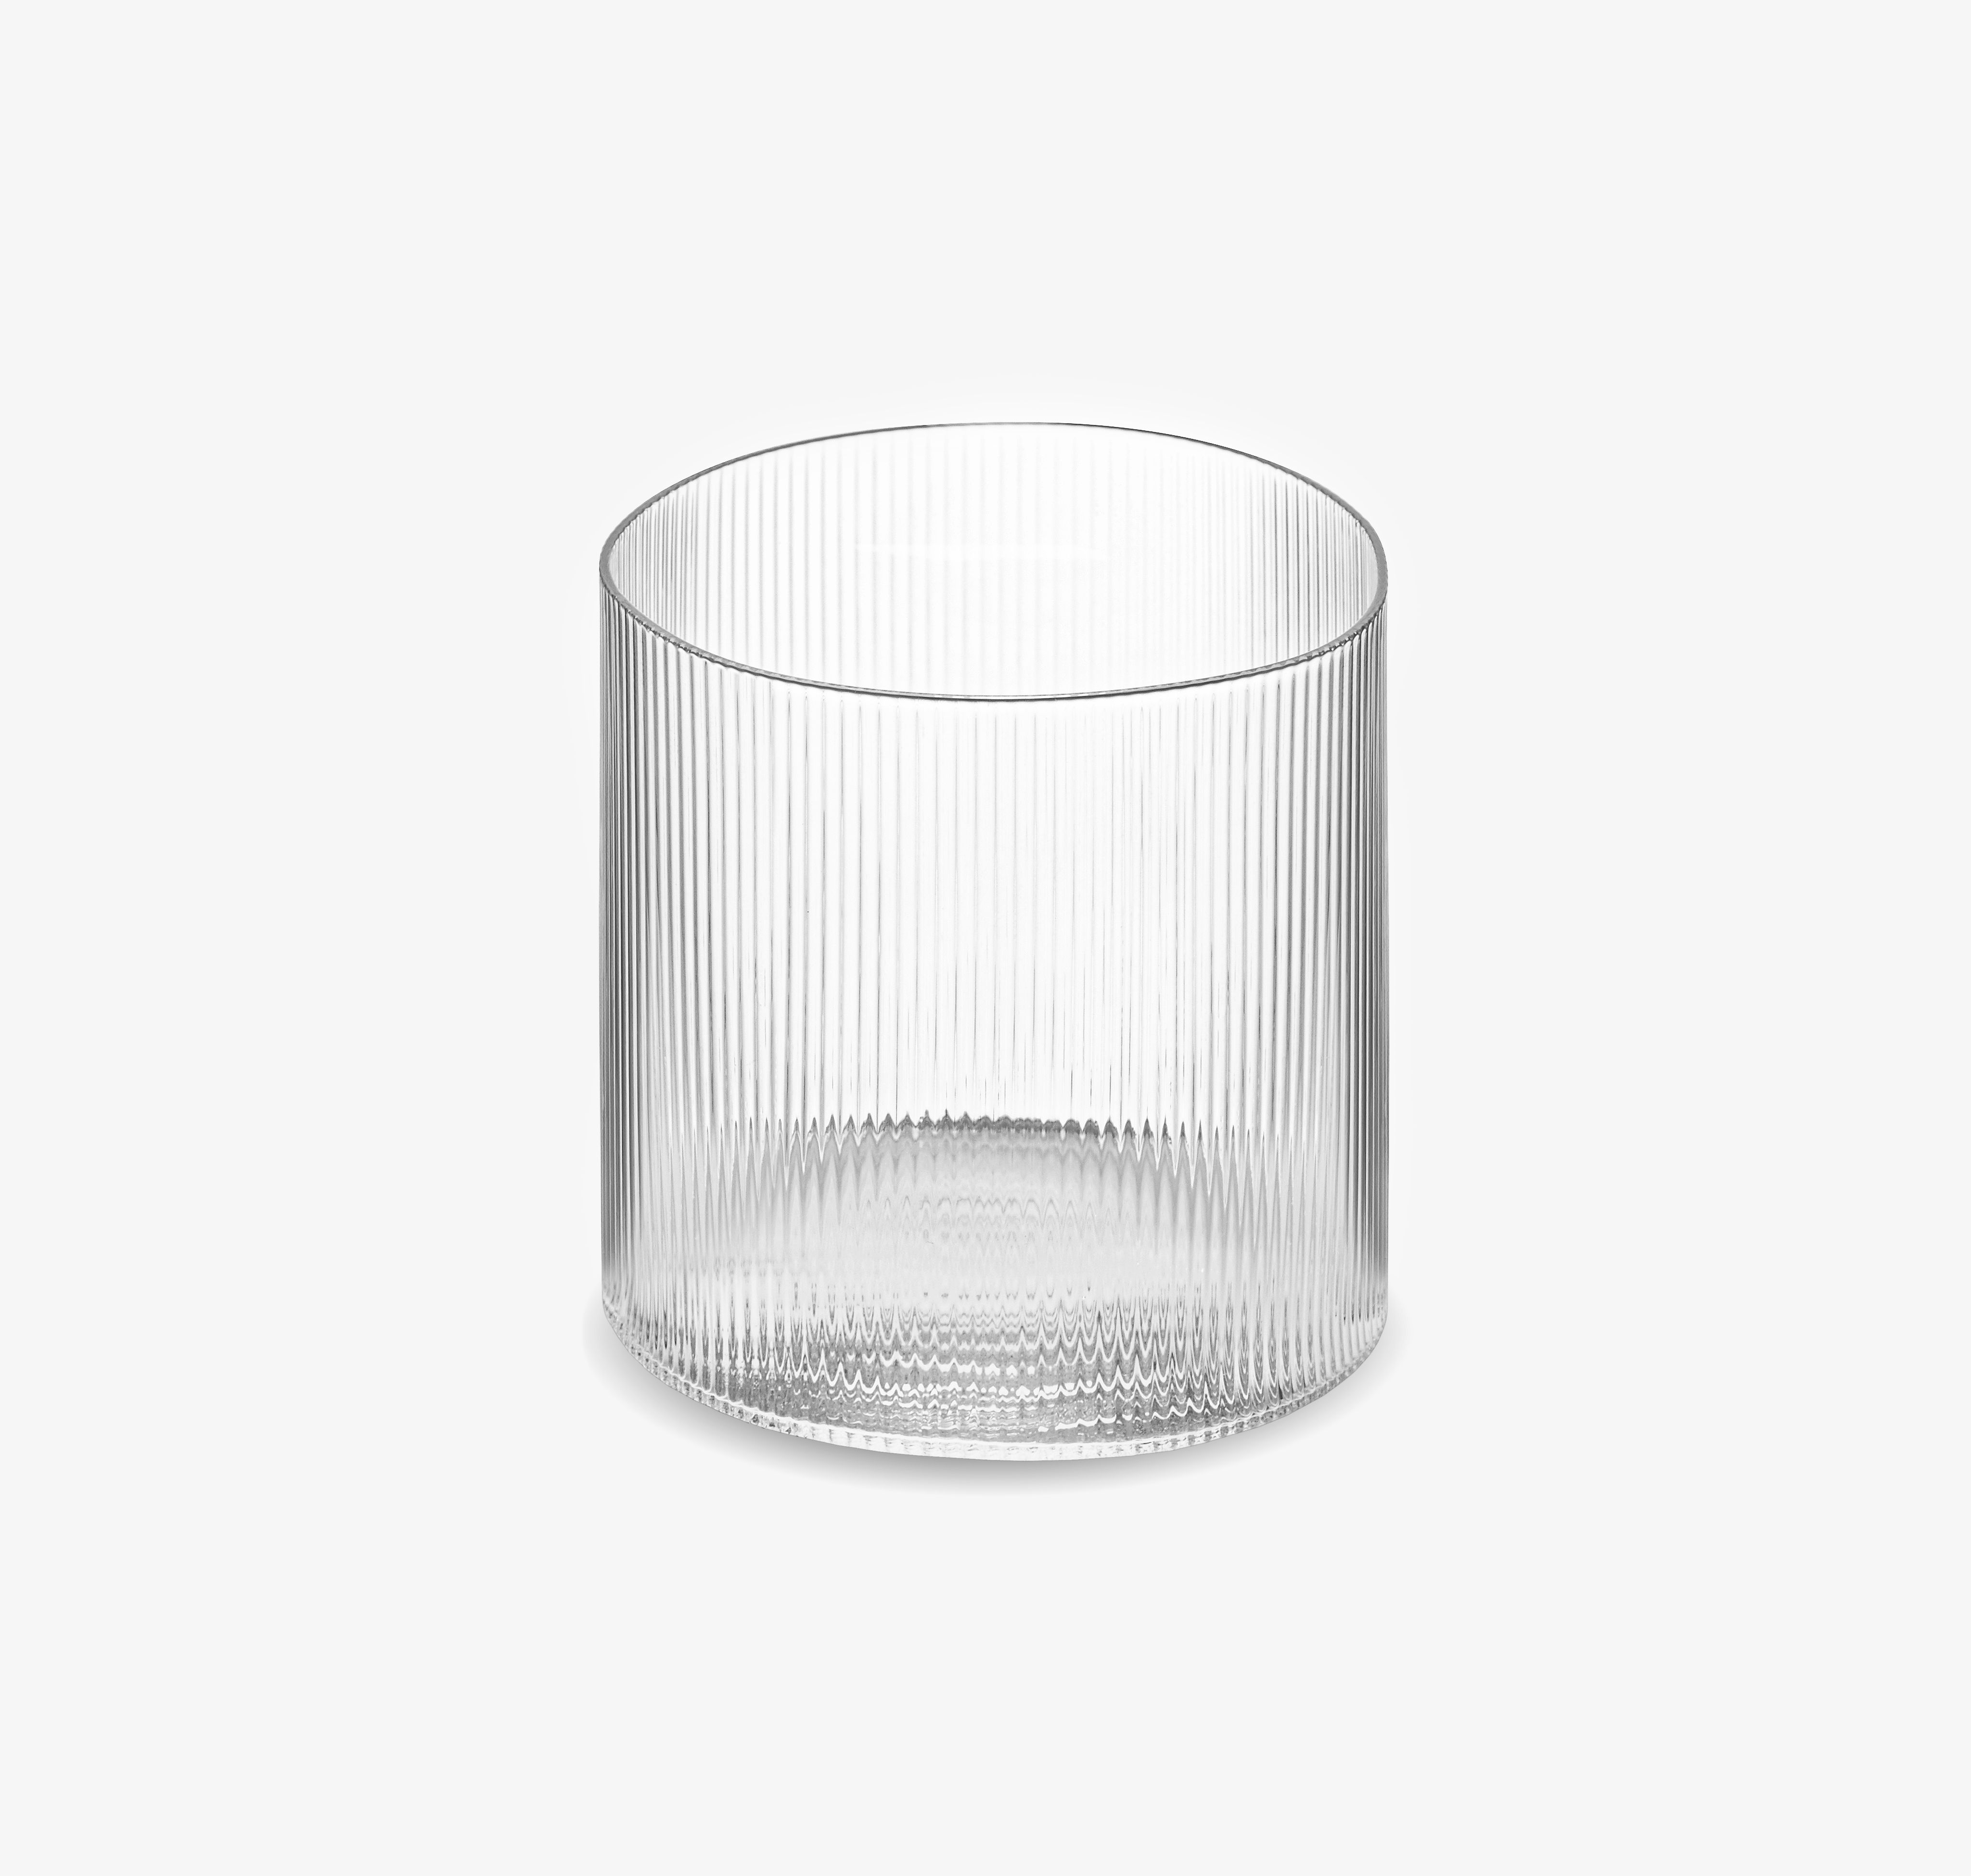glass of water: (568, 433, 1434, 1468)
